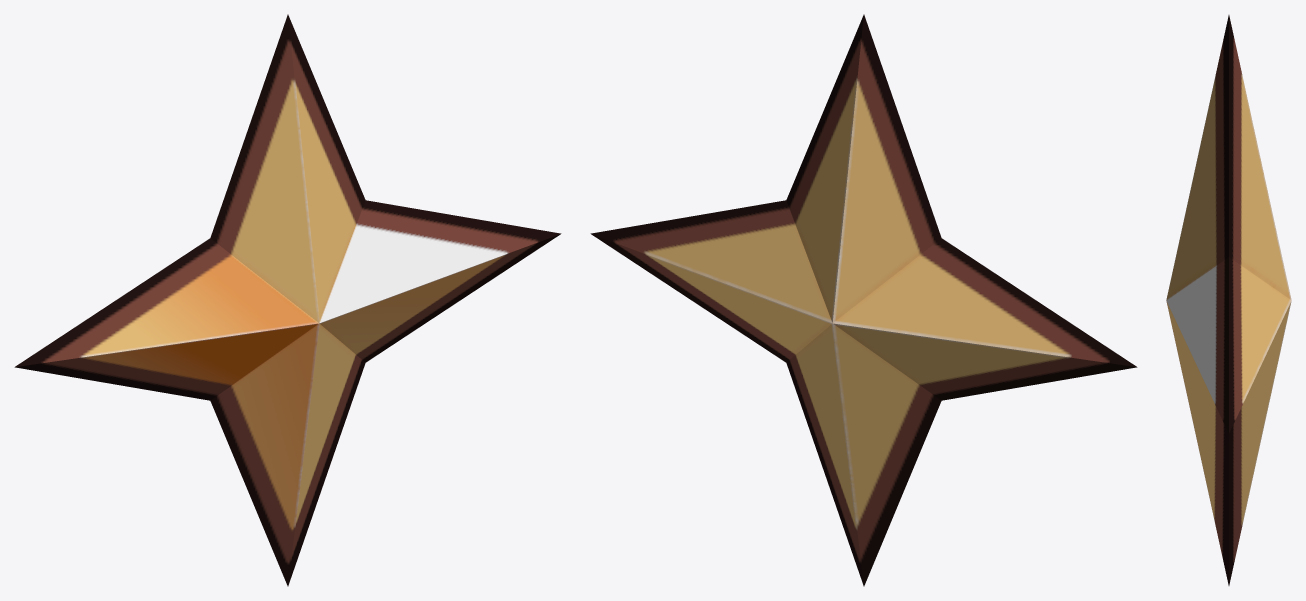
The model's file is Board_Star_Orange.fbx.
The picture shows the model from 3 angles, left to right: view 1: azimuth 30°, elevation 25°; view 2: azimuth 150°, elevation 25°; view 3: azimuth 270°, elevation 25°; orthographic projection.
Visible parts, largest first — view 1: Board_Star_Orange; view 2: Board_Star_Orange; view 3: Board_Star_Orange.
Part boxes in pixels (bbox=[...]): Board_Star_Orange: bbox=[14, 14, 561, 586]; Board_Star_Orange: bbox=[590, 14, 1137, 586]; Board_Star_Orange: bbox=[1166, 15, 1291, 585].
Bounding box in the file's own units: 1 × 1 × 0.1984.
